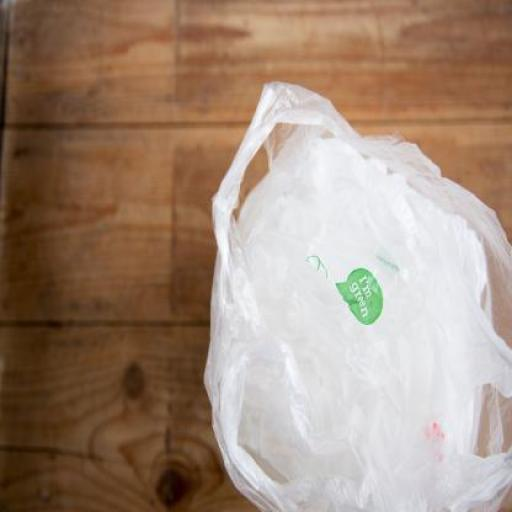plastic bag: (202, 64, 511, 511)
